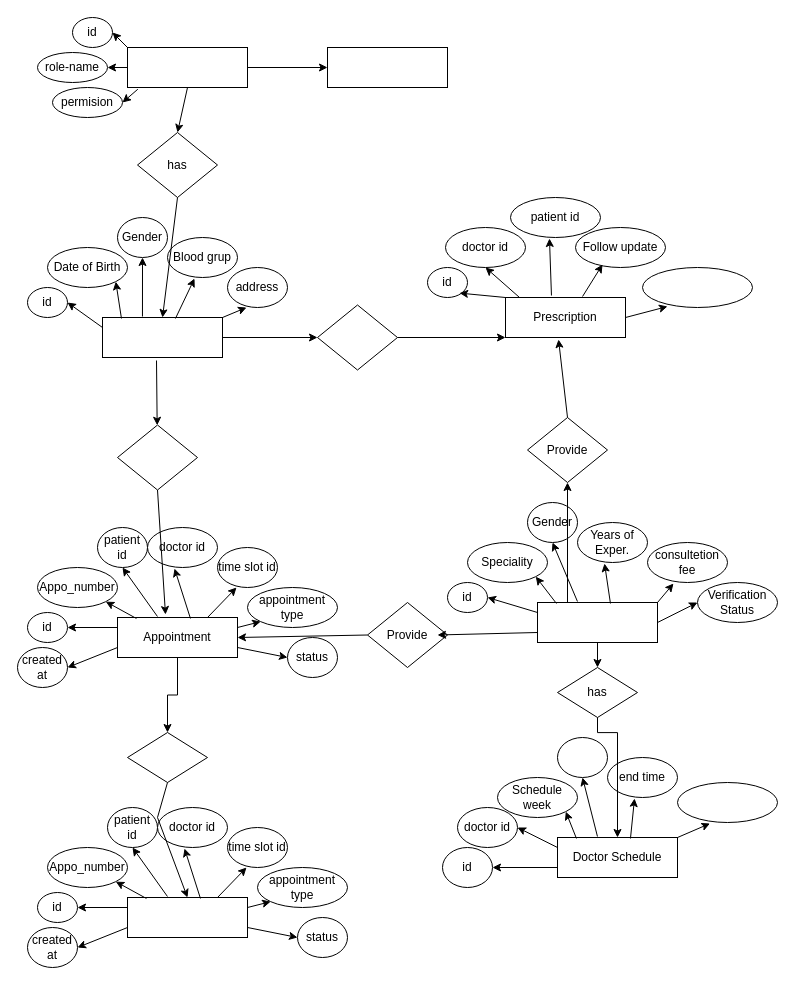
Some shapes in this 795 by 985 pixel diagram are drawn without their labels. The centre of each missing label's shape, as x and y in pixels:
Book: the point at 157,457
Create-date: the point at 697,287
Doctor: the point at 597,622
get: the point at 357,337
paid by: the point at 167,757
Patient: the point at 162,337
payments: the point at 187,917
role: the point at 187,67
slot duretion mins: the point at 727,802
Start time: the point at 582,757
